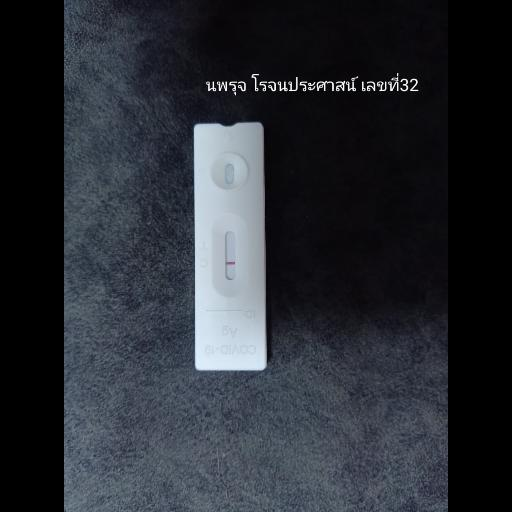Neg: (194, 122, 266, 368)
